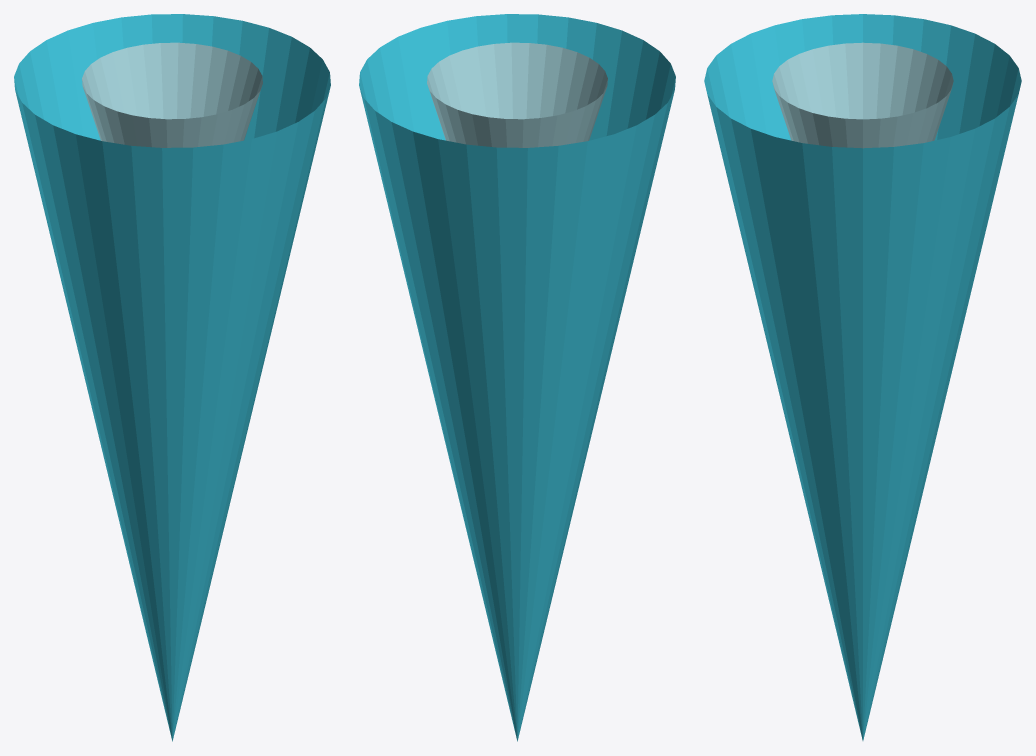
The model's file is flame.dae.
3 renders of one model, left to right at view 1: azimuth 30°, elevation 25°; view 2: azimuth 150°, elevation 25°; view 3: azimuth 270°, elevation 25°, orthographic.
Visible parts, largest first — view 1: Flame; view 2: Flame; view 3: Flame.
Boxes of the visible parts, left/top/right/bottom form: Flame: left=14, top=14, right=330, bottom=741; Flame: left=359, top=14, right=675, bottom=741; Flame: left=704, top=14, right=1021, bottom=740.
Bounding box in the file's own units: 1.04 × 1.04 × 2.39.
1 material, 1 textured.
